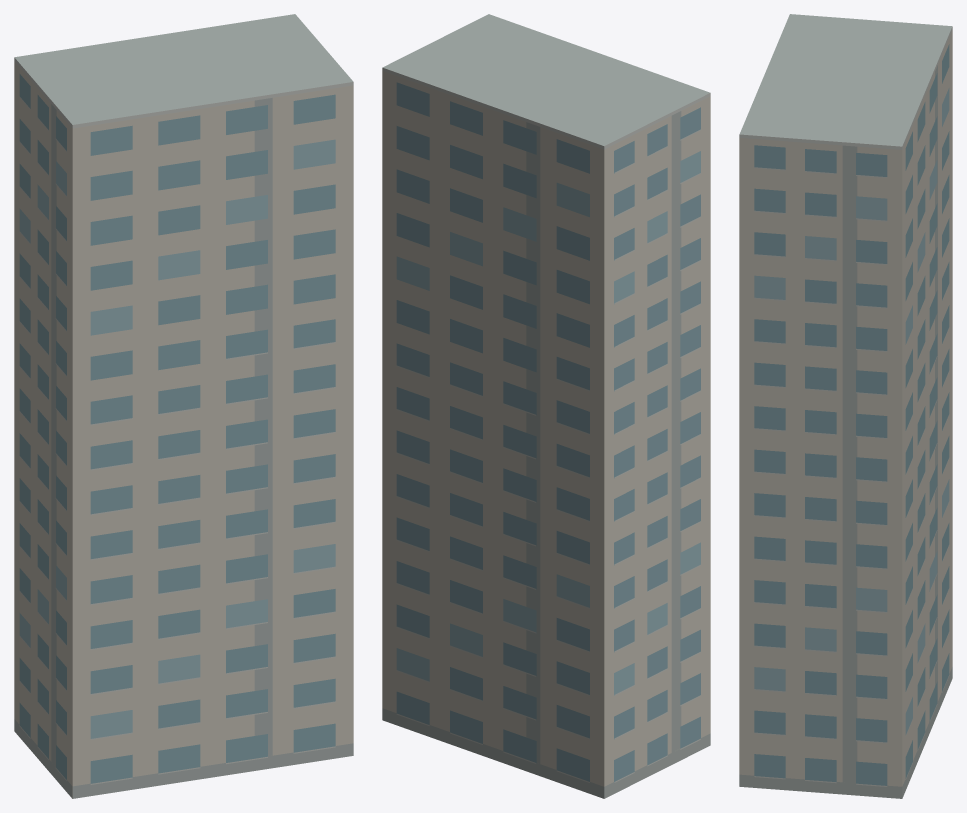
File: residential-86a3d7c7-619d-4504-a0da-d0f1fa57ddaf.glb
The picture shows the model from 3 angles, left to right: view 1: azimuth 30°, elevation 25°; view 2: azimuth 150°, elevation 25°; view 3: azimuth 270°, elevation 25°; orthographic projection. The views are drawn at different scales.
Visible parts, largest first — view 1: residential-86a3d7c7-619d-4504-a0da-d0f1fa57ddaf.tmp; view 2: residential-86a3d7c7-619d-4504-a0da-d0f1fa57ddaf.tmp; view 3: residential-86a3d7c7-619d-4504-a0da-d0f1fa57ddaf.tmp.
Part boxes in pixels (x1,y1,x2,y2): residential-86a3d7c7-619d-4504-a0da-d0f1fa57ddaf.tmp: (14,14,353,798); residential-86a3d7c7-619d-4504-a0da-d0f1fa57ddaf.tmp: (382,14,710,798); residential-86a3d7c7-619d-4504-a0da-d0f1fa57ddaf.tmp: (739,14,952,798).
Size of the model in its own units: 20.5 by 47 by 13.93.
